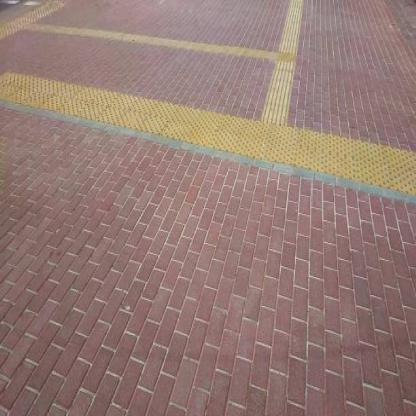podotacti: (0, 0, 413, 220)
